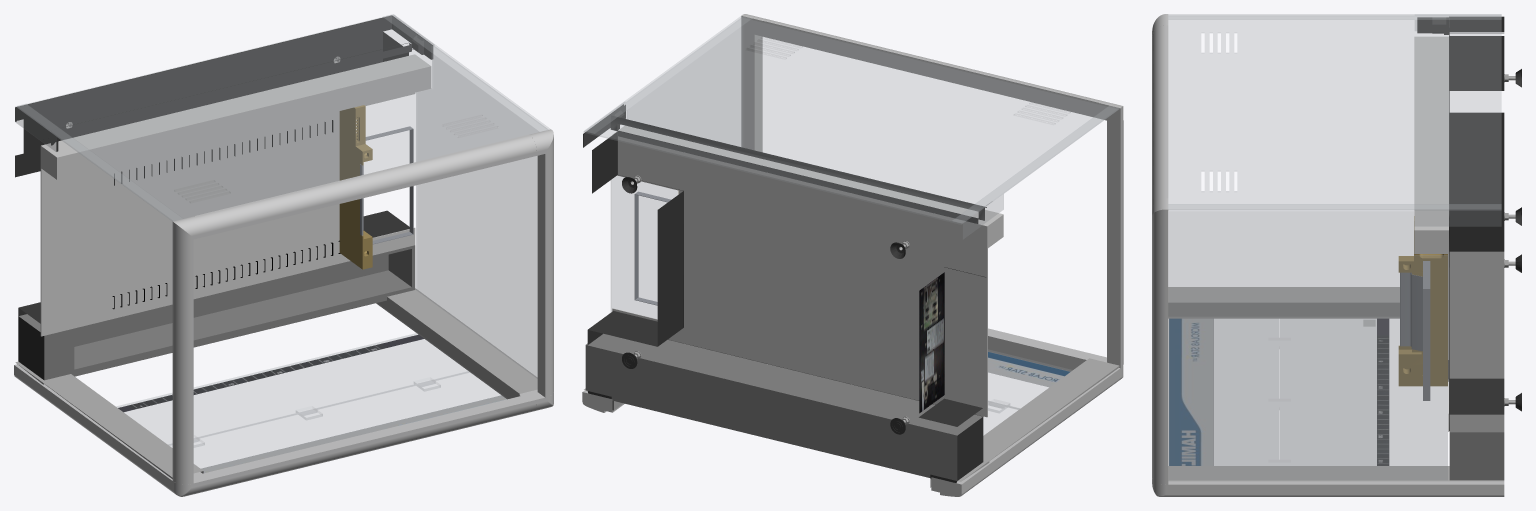
Rendered from STARLet.glb.
3 views of the same model, side by side, from view 1: azimuth 30°, elevation 25°; view 2: azimuth 150°, elevation 25°; view 3: azimuth 270°, elevation 25° (orthographic). The views are drawn at different scales.
Parts seen in each view (by area): view 1: starlet_base; view 2: starlet_base; view 3: starlet_base.
Boxes of the visible parts, <box> form: starlet_base: <box>14,14,553,496</box>; starlet_base: <box>582,14,1123,496</box>; starlet_base: <box>1152,14,1521,496</box>.
Size of the model in its own units: 1.13 by 0.7926 by 0.903.
14 materials, 4 textured.
